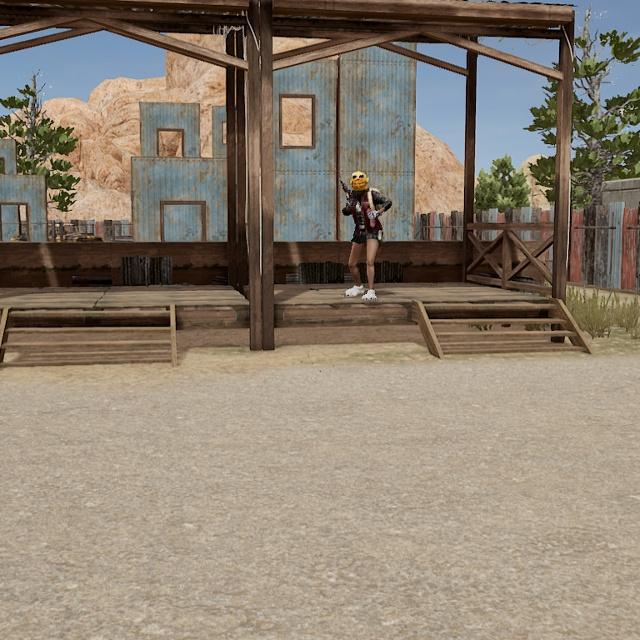head: (350, 171, 369, 193)
people: (341, 171, 392, 299)
